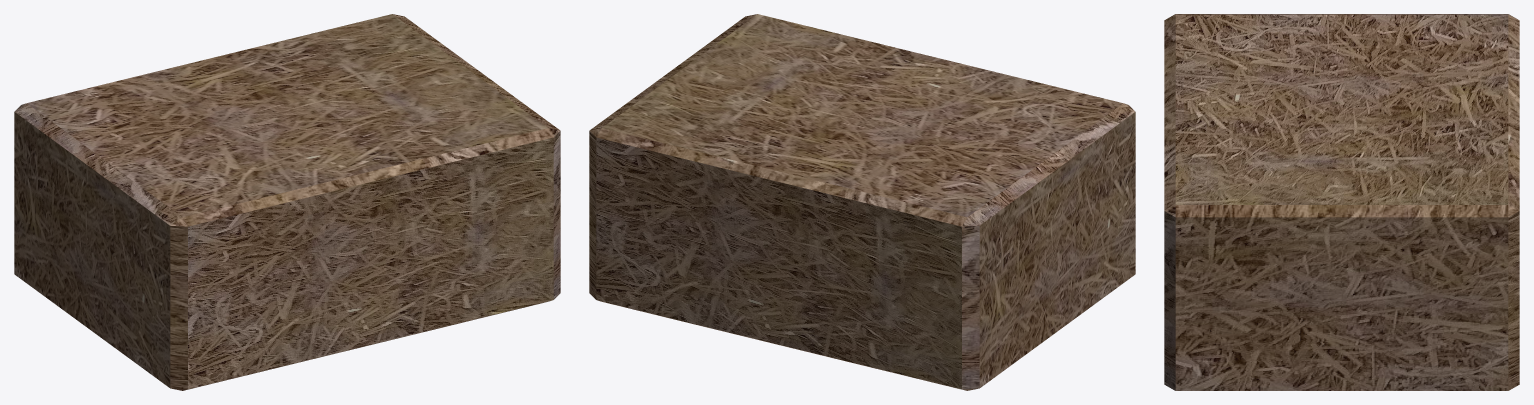
File: hay.glb
3 views of the same model, side by side, from view 1: azimuth 30°, elevation 25°; view 2: azimuth 150°, elevation 25°; view 3: azimuth 270°, elevation 25° (orthographic). The views are drawn at different scales.
Parts seen in each view (by area): view 1: Hay; view 2: Hay; view 3: Hay.
Boxes of the visible parts, bbox=[...] form: Hay: bbox=[14, 14, 560, 390]; Hay: bbox=[589, 14, 1135, 390]; Hay: bbox=[1164, 14, 1519, 390].
Bounding box in the file's own units: 1.16 × 0.4943 × 0.8589.
Materials: 1 (1 with a texture image).
